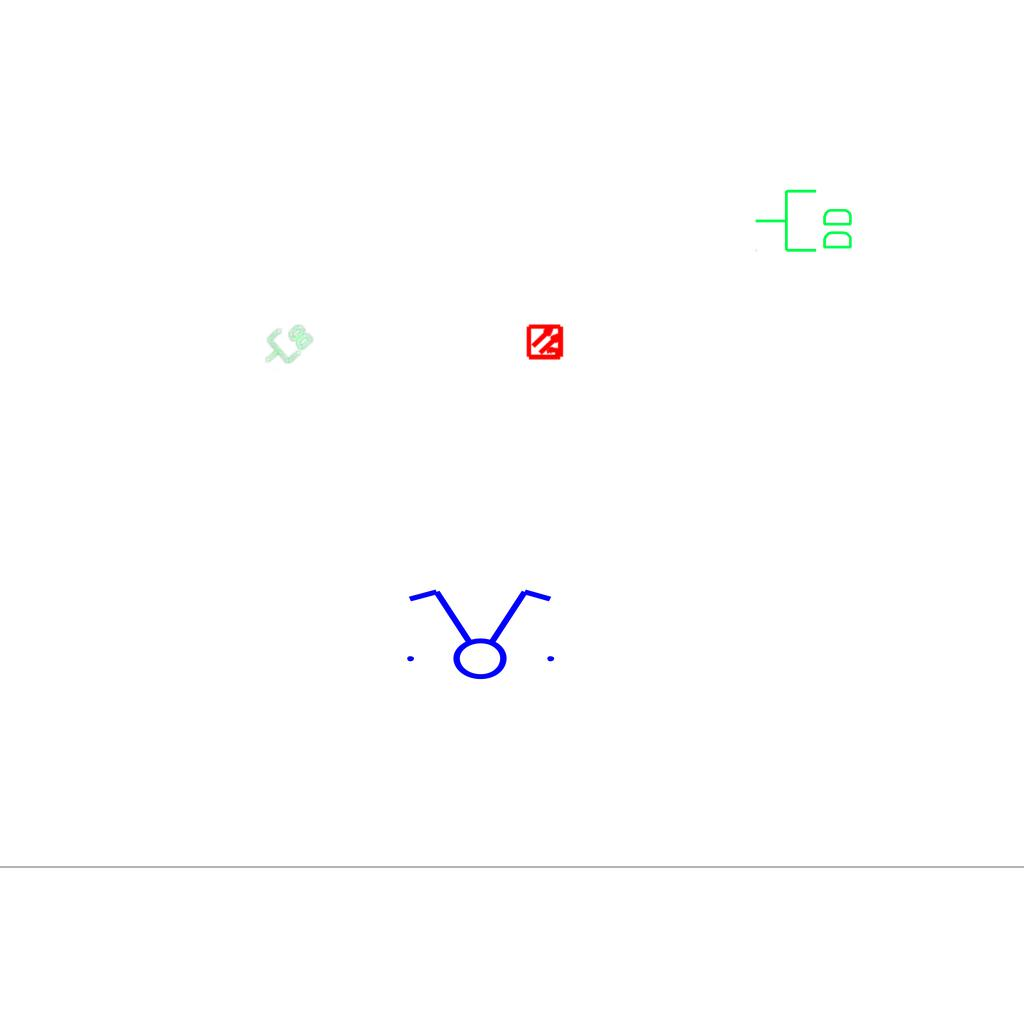Datenanschluss_zweifach: (753, 187, 856, 256), (255, 315, 316, 375)
OT_Multisensormelder_(Kombination_RMO_WMD): (518, 314, 574, 370)
Serienschalter: (395, 585, 563, 681)
